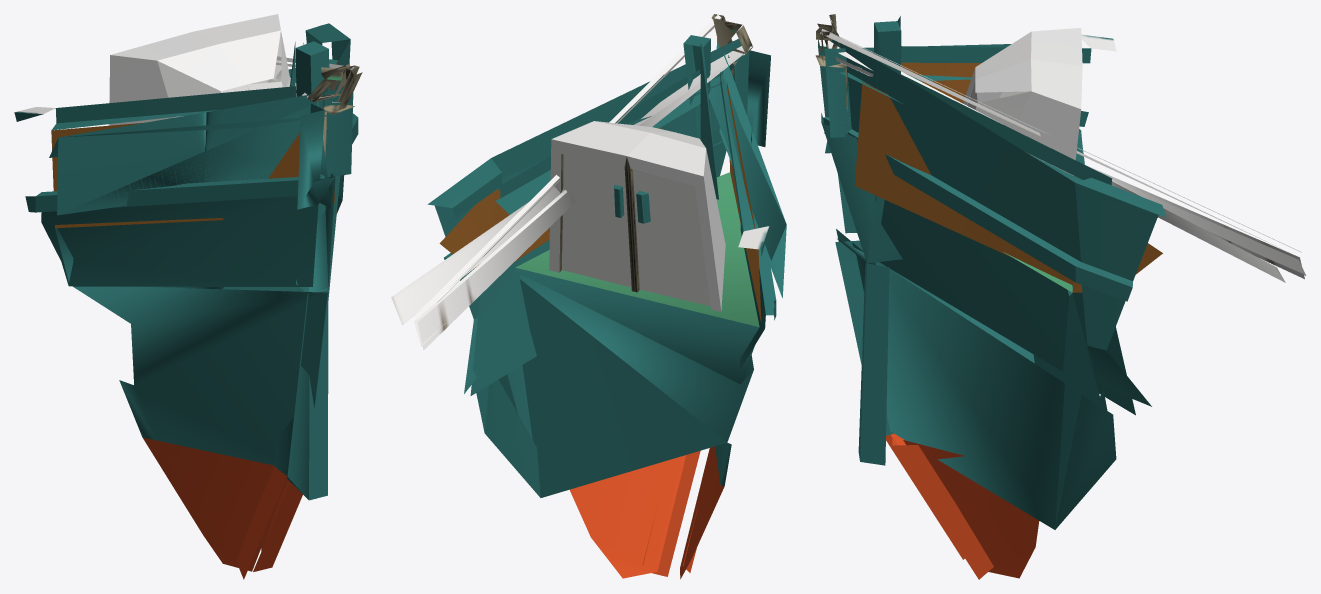
File: damaged_boat_2.obj
The picture shows the model from 3 angles, left to right: view 1: azimuth 30°, elevation 25°; view 2: azimuth 150°, elevation 25°; view 3: azimuth 270°, elevation 25°; orthographic projection. The views are drawn at different scales.
Visible parts, largest first — view 1: Rudder_Boat_2_0.001; view 2: Rudder_Boat_2_0.001; view 3: Rudder_Boat_2_0.001.
Part boxes in pixels (bbox=[...]): Rudder_Boat_2_0.001: bbox=[14, 14, 362, 579]; Rudder_Boat_2_0.001: bbox=[391, 14, 786, 579]; Rudder_Boat_2_0.001: bbox=[815, 14, 1306, 579].
Size of the model in its own units: 7.46 by 11.65 by 9.32.
